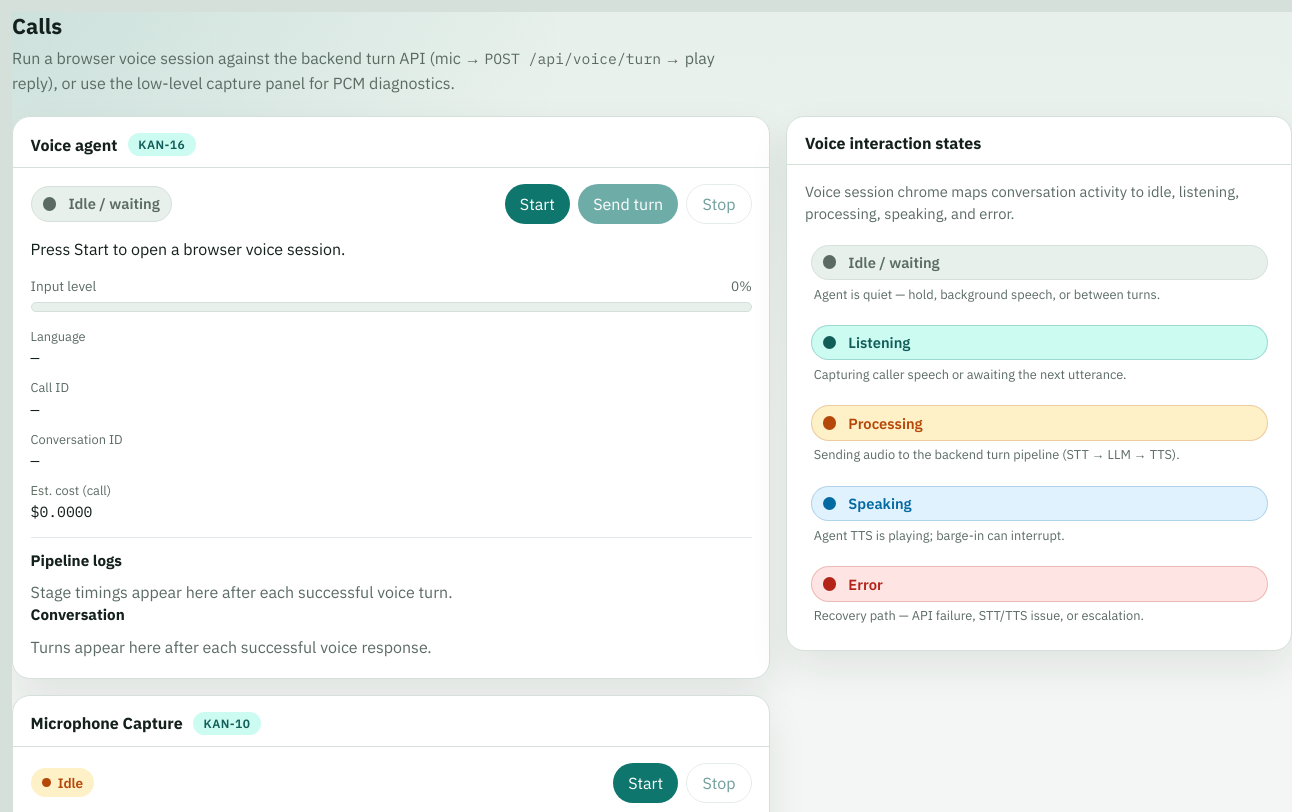
Test: VoiceAgentPanel (KAN-16) › TC-002 shows transcript and replyText after a successful turn
Click the button with test id "voice-start" at (537, 204), box [505, 184, 570, 224]
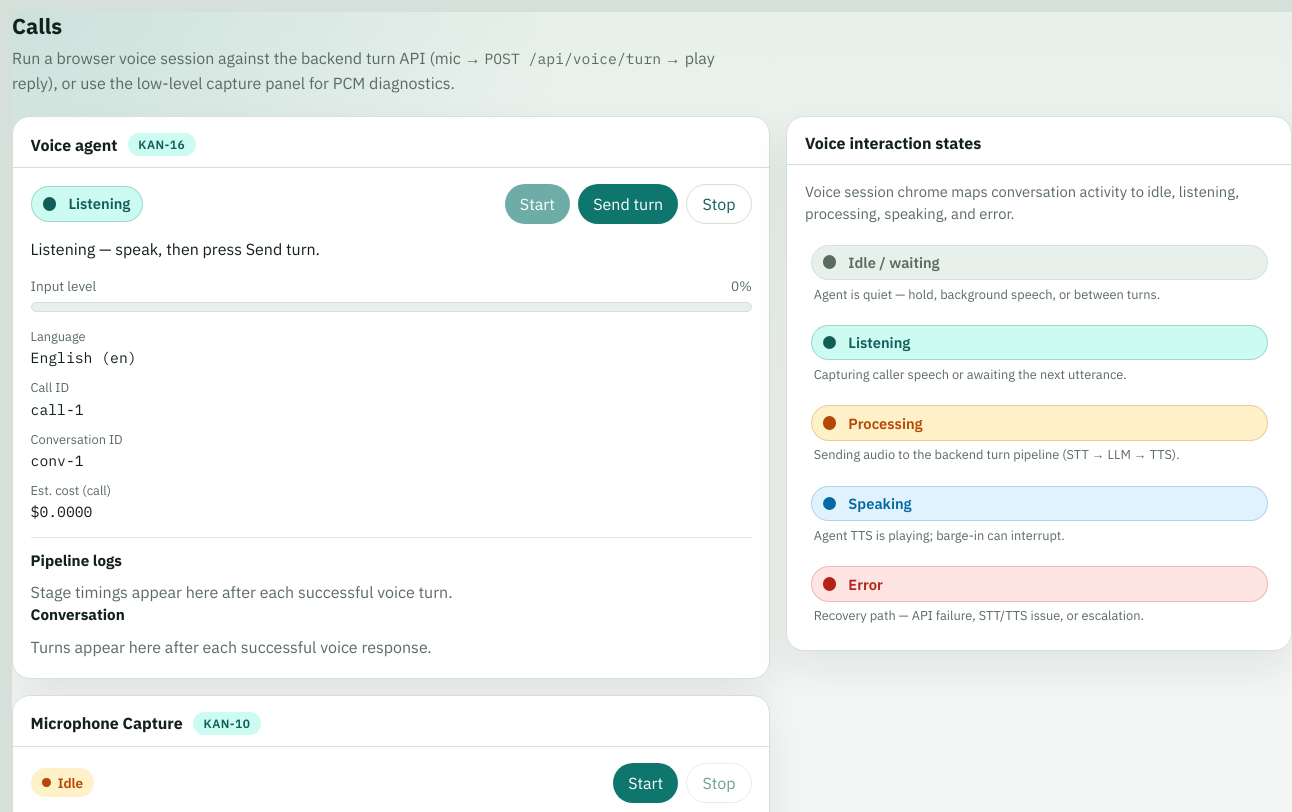
Result: the button with test id "voice-send-turn" is enabled
Click the button with test id "voice-send-turn" at (628, 204), box [578, 184, 678, 224]
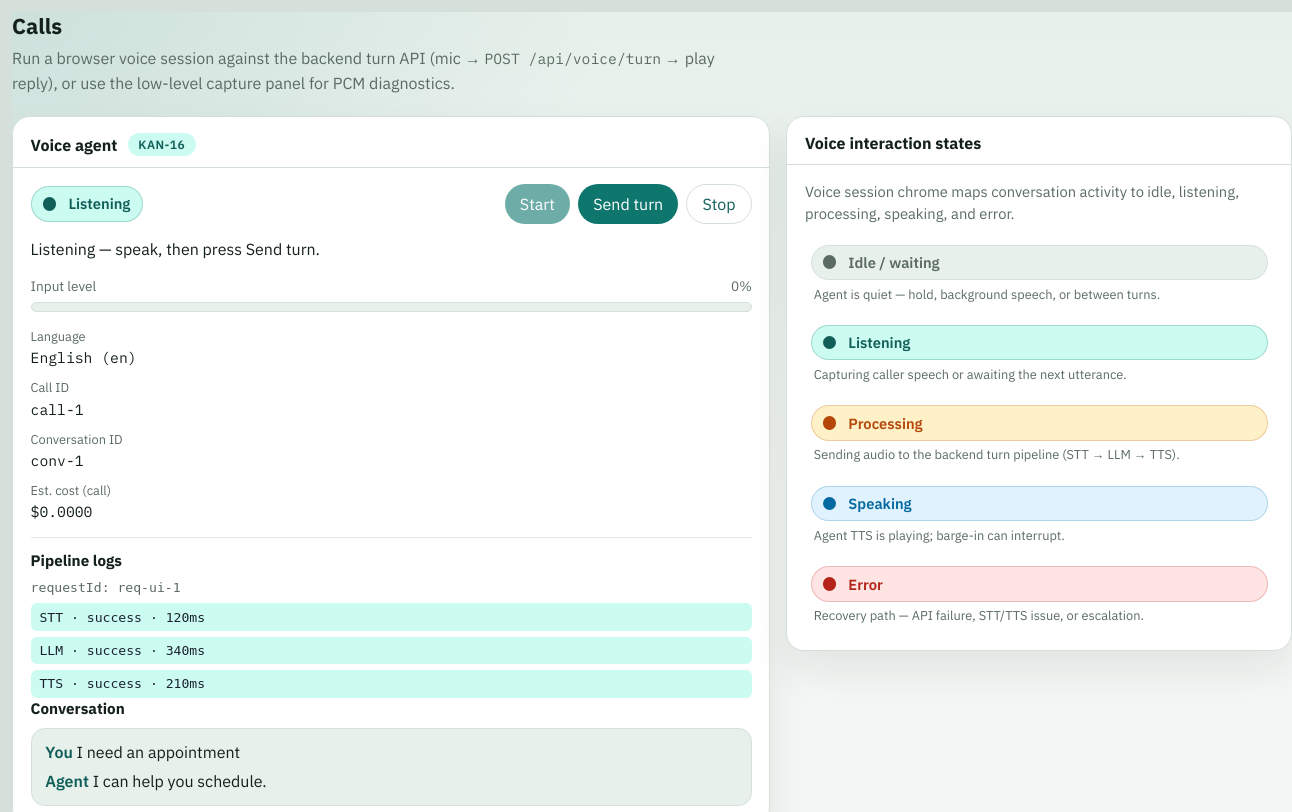
Result: the text with test id "voice-turn-transcript" reads "I need an appointment" at [77, 742, 240, 762]
Result: the text with test id "voice-turn-reply" reads "I can help you schedule." at [93, 771, 267, 791]
